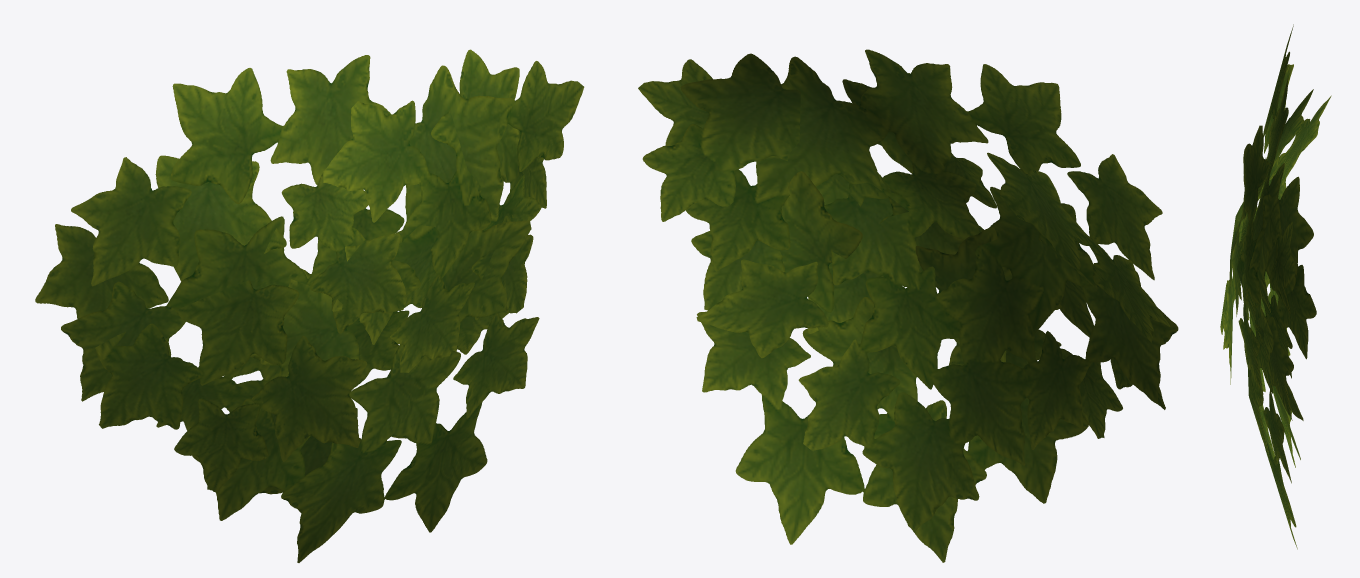
The model's file is MSH_fwOF_Ivy_03.fbx.
3 renders of one model, left to right at view 1: azimuth 30°, elevation 25°; view 2: azimuth 150°, elevation 25°; view 3: azimuth 270°, elevation 25°, orthographic. The views are drawn at different scales.
Parts seen in each view (by area): view 1: MSH_fwOF_Ivy_03_LOD0; view 2: MSH_fwOF_Ivy_03_LOD0; view 3: MSH_fwOF_Ivy_03_LOD0.
Part boxes in pixels (box(x1,y1,x2,y2)): MSH_fwOF_Ivy_03_LOD0: box(35, 49, 584, 562); MSH_fwOF_Ivy_03_LOD0: box(638, 49, 1178, 562); MSH_fwOF_Ivy_03_LOD0: box(1220, 24, 1331, 549).
Size of what is drawn, in the model's own units: 0.5379 by 0.5018 by 0.1331.
